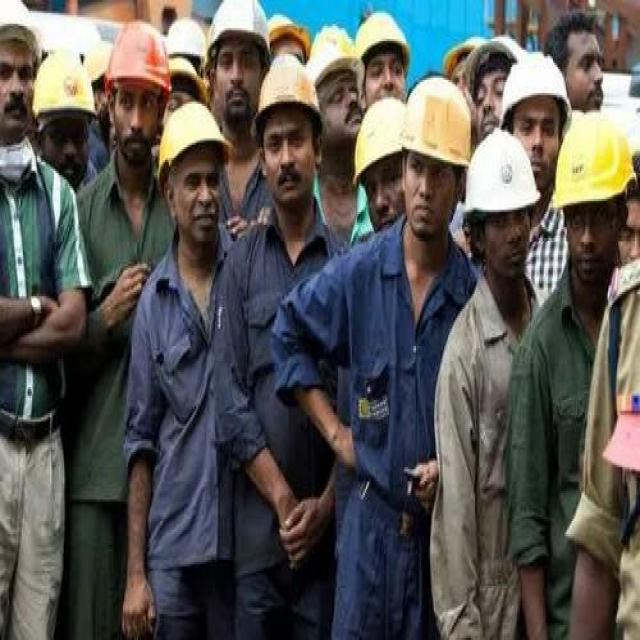Safety-Helmet: (553, 110, 636, 210), (403, 71, 474, 169), (462, 128, 539, 216), (158, 97, 232, 171), (29, 41, 96, 121), (106, 15, 172, 91), (350, 95, 406, 177), (256, 52, 321, 119), (500, 50, 570, 112), (204, 0, 272, 54), (354, 6, 410, 58), (0, 0, 44, 48)
